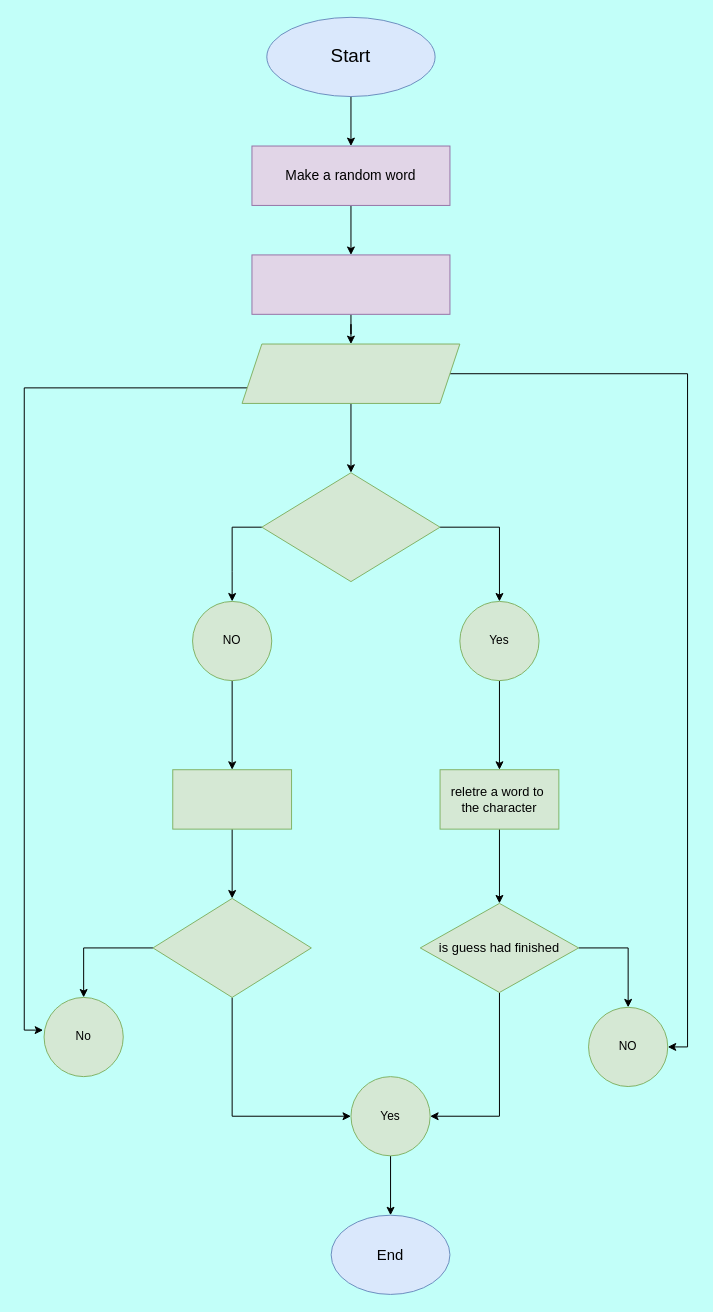
Image size: 713x1312. Some labels were removed from this diagram. Here are the shapes that lost their labels. From the top down, the centre of each, then its label:
At (x=350, y=284): "Make spaces as long as a random word".
At (x=350, y=373): "Ask to guess a character".
At (x=350, y=527): "Is guess correct".
At (x=232, y=799): "Loss a chance".
At (x=231, y=947): "is every chanses had ended".
